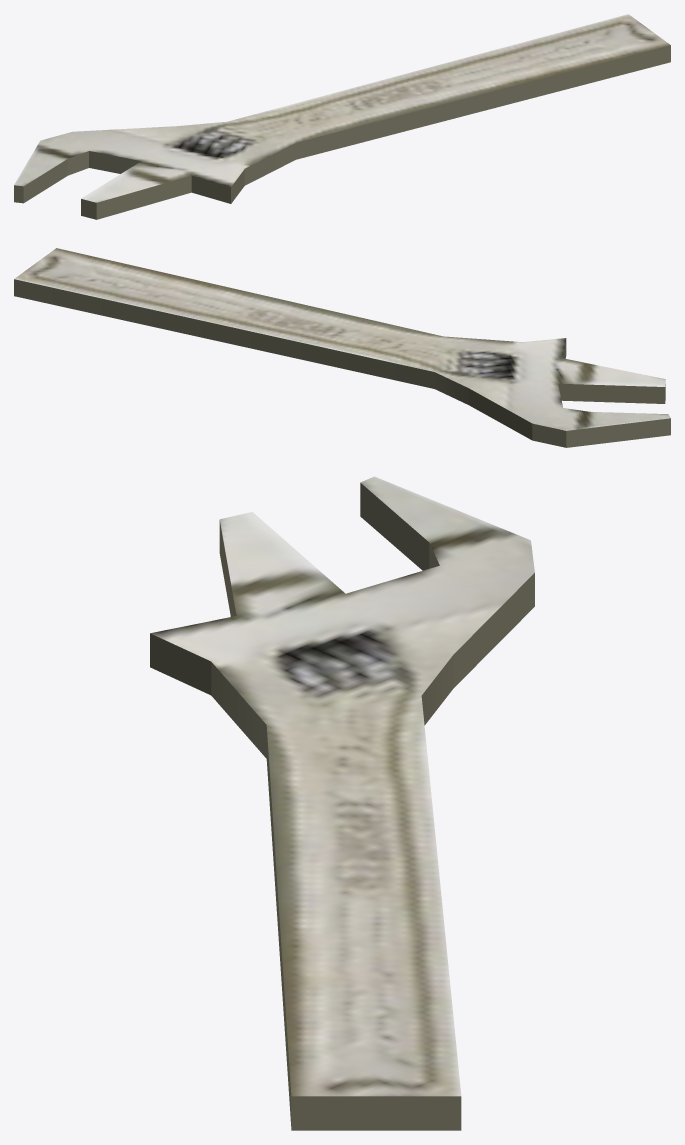
File: item_spaner.FBX
The picture shows the model from 3 angles, top to bottom: view 1: azimuth 30°, elevation 25°; view 2: azimuth 150°, elevation 25°; view 3: azimuth 270°, elevation 25°; orthographic projection. The views are drawn at different scales.
Parts seen in each view (by area): view 1: spaner; view 2: spaner; view 3: spaner.
Boxes of the visible parts, x1,y1,x2,y2 form: spaner: (14, 14, 670, 219); spaner: (14, 248, 670, 447); spaner: (150, 476, 534, 1130).
Bounding box in the file's own units: 391 × 10 × 102.
